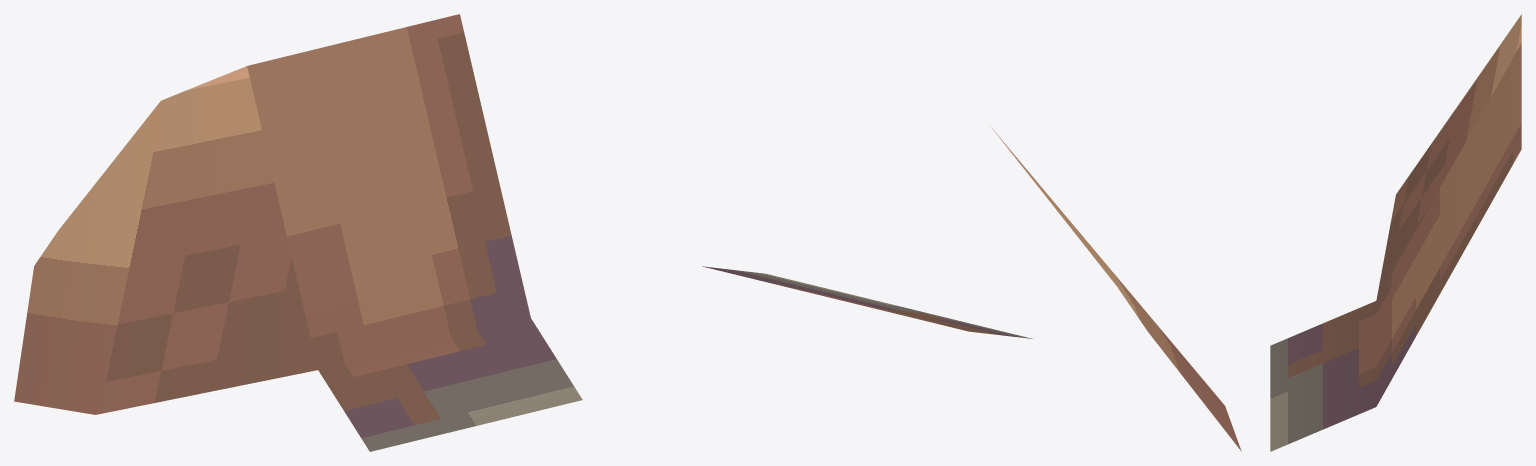
3 views of the same model, side by side, from view 1: azimuth 30°, elevation 25°; view 2: azimuth 150°, elevation 25°; view 3: azimuth 270°, elevation 25° (orthographic). The views are drawn at different scales.
Bounding box in the file's own units: 1.11 × 0.6645 × 0.5.
Materials: 1 (1 with a texture image).
